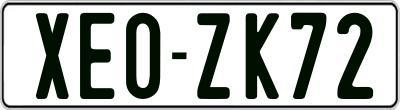0: (123, 13, 160, 99)
2: (337, 13, 373, 100)
7: (291, 12, 331, 98)
E: (80, 13, 118, 105)
K: (245, 11, 280, 101)
X: (36, 10, 74, 97)
Z: (194, 12, 227, 104)
